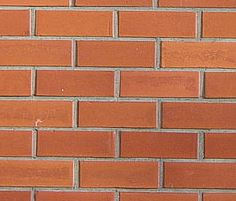brick: (75, 38, 156, 68), (118, 69, 201, 98), (35, 8, 116, 37), (77, 99, 158, 128), (36, 68, 115, 97), (37, 129, 116, 158), (119, 130, 200, 158), (159, 40, 236, 69), (78, 160, 159, 187), (161, 101, 236, 130), (162, 160, 236, 189), (117, 10, 198, 36), (1, 38, 73, 67), (1, 159, 72, 187), (1, 99, 74, 126), (200, 10, 236, 38), (203, 70, 236, 100), (1, 128, 35, 157), (202, 132, 236, 160), (1, 69, 33, 97), (1, 9, 32, 37)
